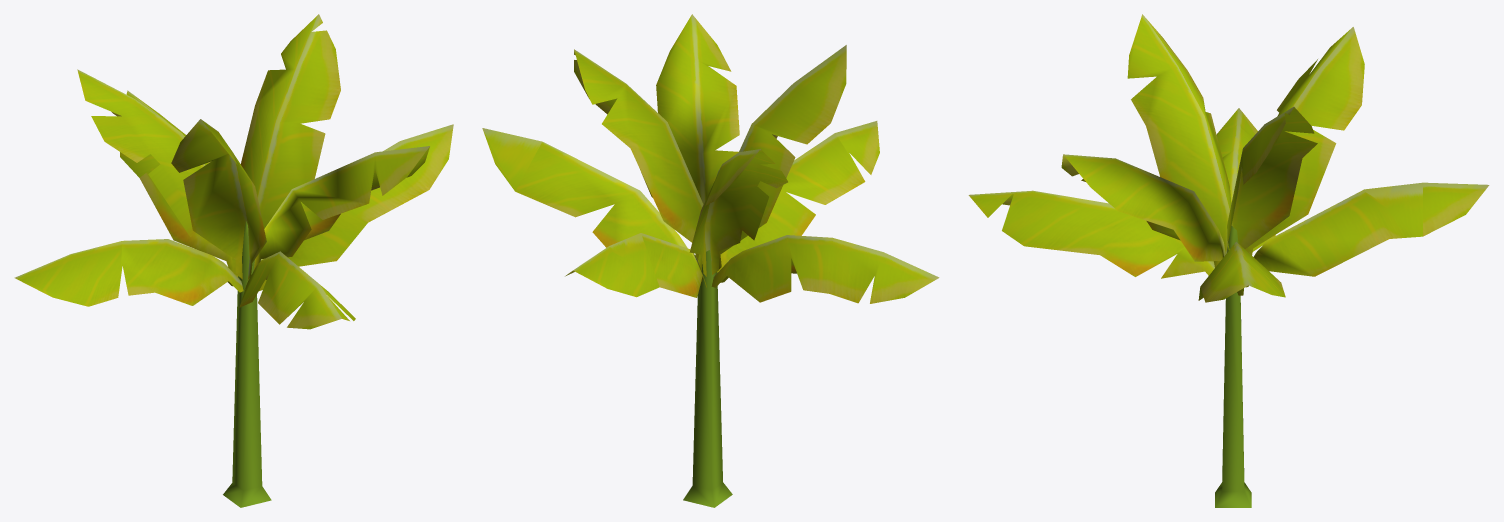
Rendered from banana tree.fbx.
3 views of the same model, side by side, from view 1: azimuth 30°, elevation 25°; view 2: azimuth 150°, elevation 25°; view 3: azimuth 270°, elevation 25° (orthographic).
Visible parts, largest first — view 1: G_Trunk.003; view 2: G_Trunk.003; view 3: G_Trunk.003.
Part boxes in pixels (x1,y1,x2,y2): G_Trunk.003: (14, 14, 453, 507); G_Trunk.003: (482, 14, 939, 507); G_Trunk.003: (968, 14, 1489, 507).
Bounding box in the file's own units: 3.48 × 3.48 × 3.27.
